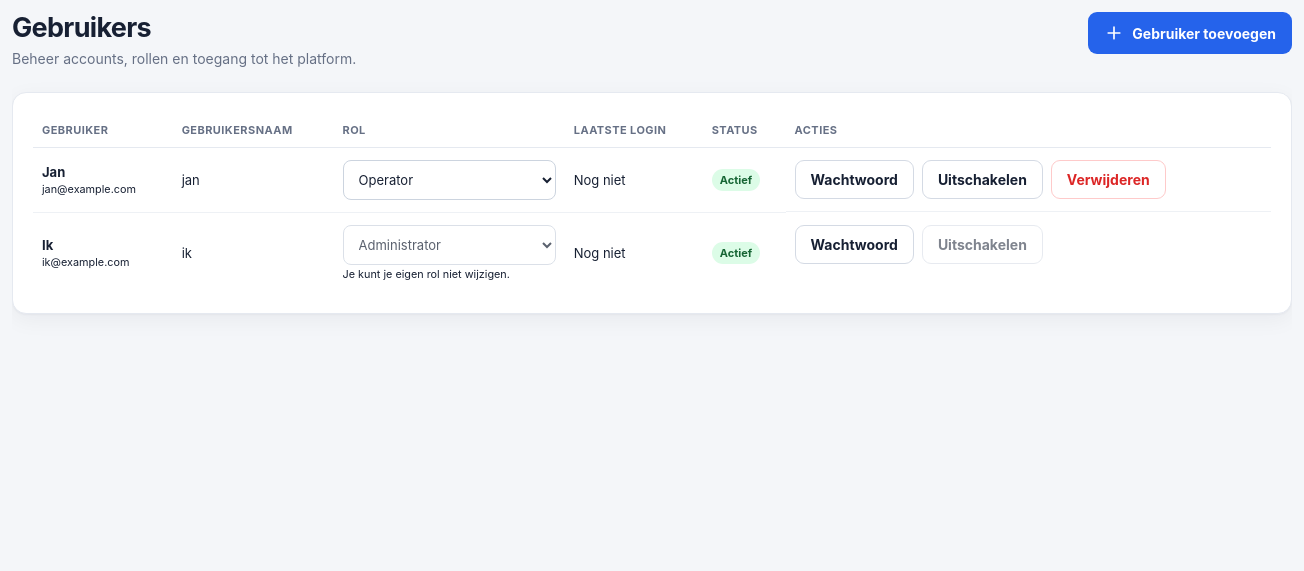
rollen en wachtwoord in de interface › reset het wachtwoord via de dialoog en meldt actieve sessies af
Expected: the text "Jan" is shown, [42,164,65,180]
Click the button with aria-label "Wachtwoord wijzigen van Jan" at (854, 180), box [795,160,914,199]
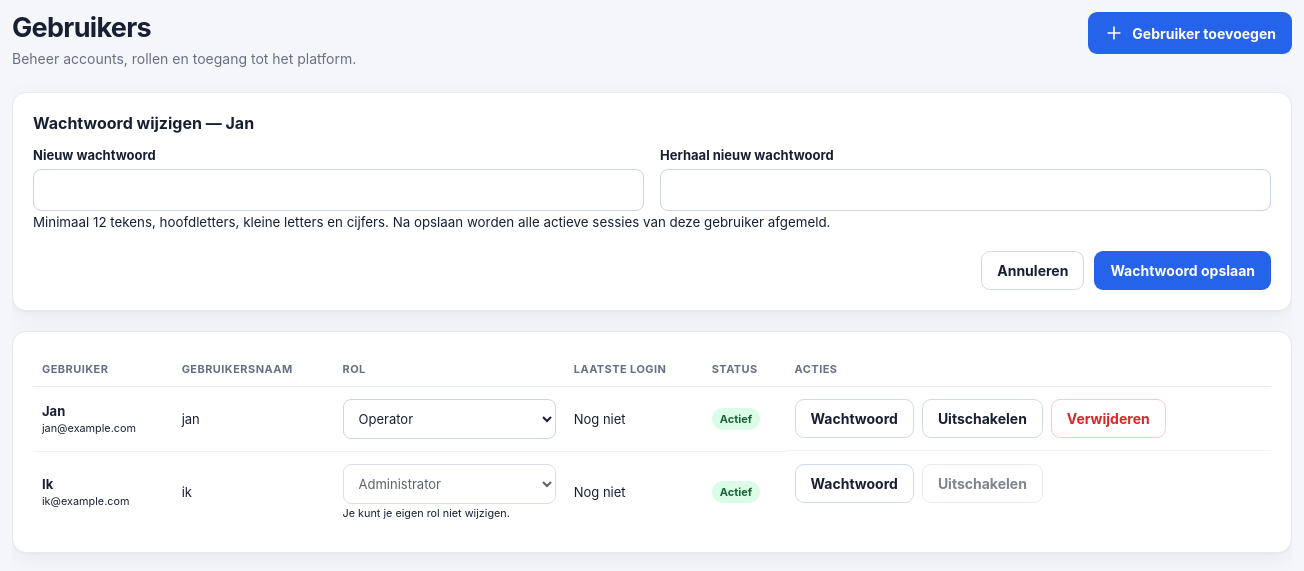
Type "NieuwSterkWacht1" into the password field labelled "Nieuw wachtwoord" at (338, 190), box [33,169,644,211]
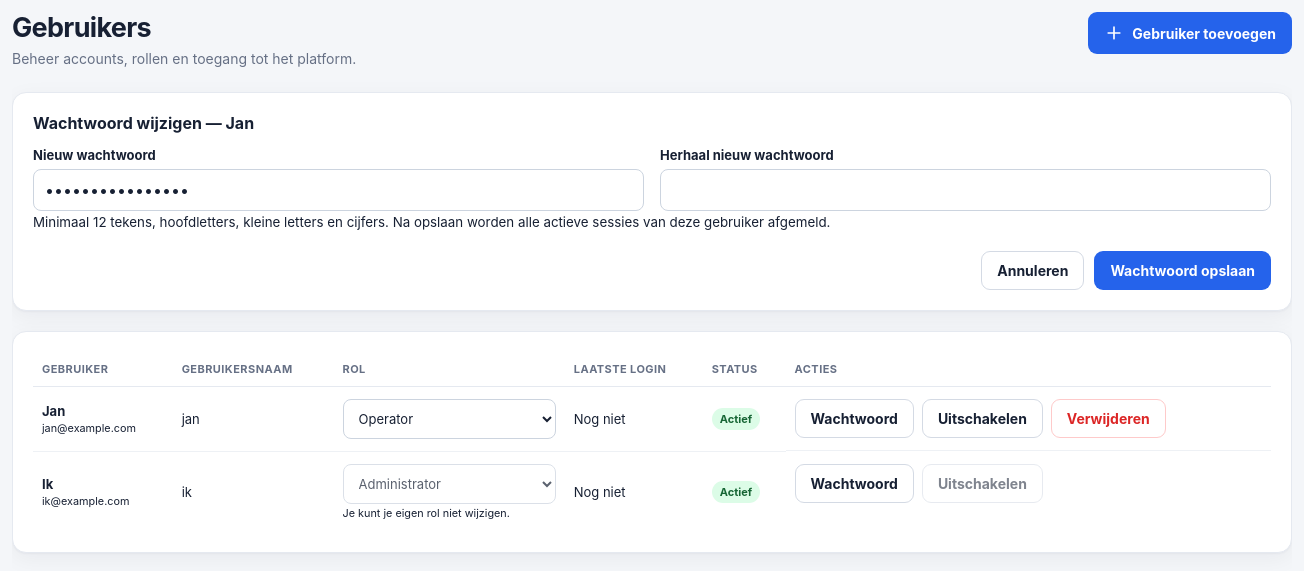
Type "NieuwSterkWacht1" into the password field labelled "Herhaal nieuw wachtwoord" at (966, 190), box [660,169,1271,211]
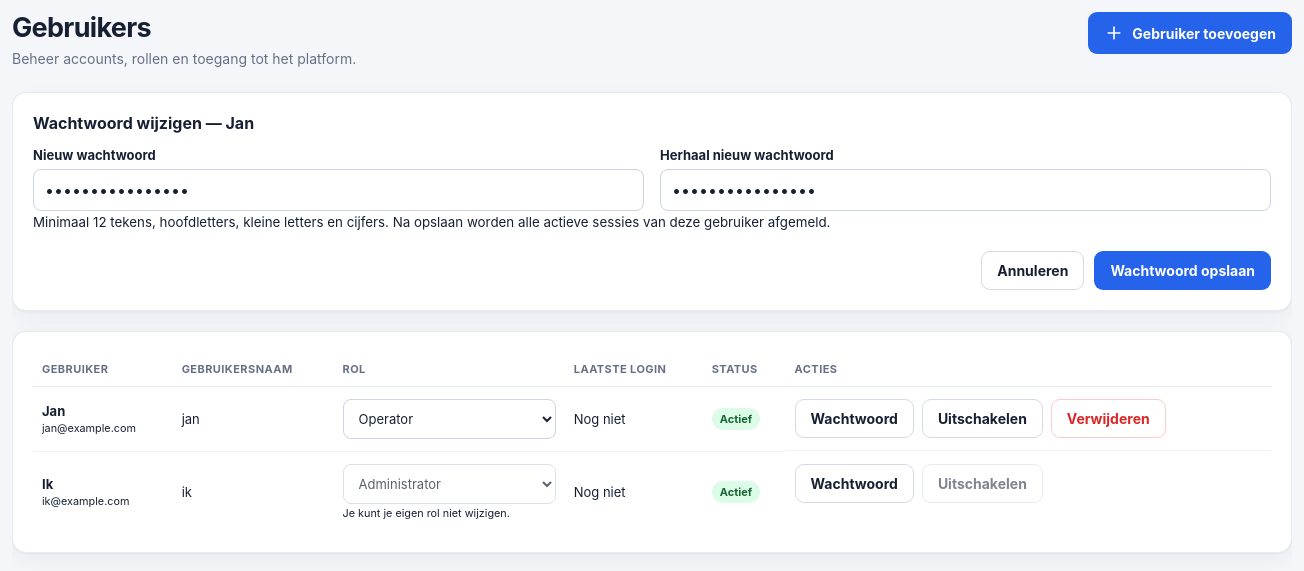
Click the button "Wachtwoord opslaan" at (1183, 271), box [1094,251,1271,290]
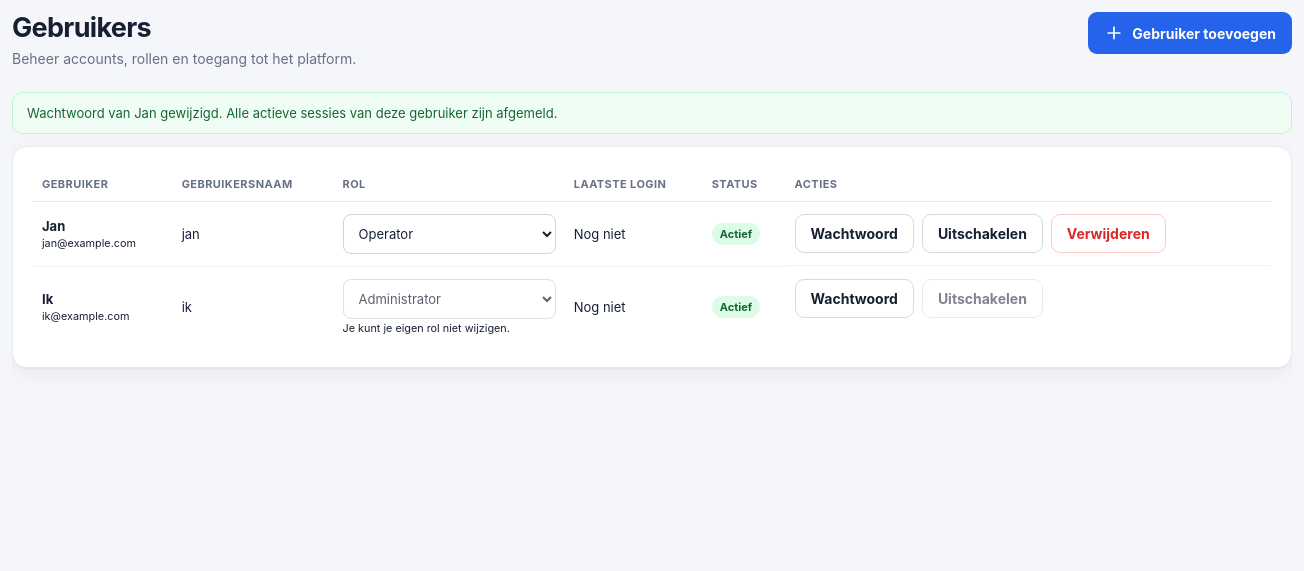
Result: the text "Alle actieve sessies van deze gebruiker zijn afgemeld" is shown at [27,105,557,121]
